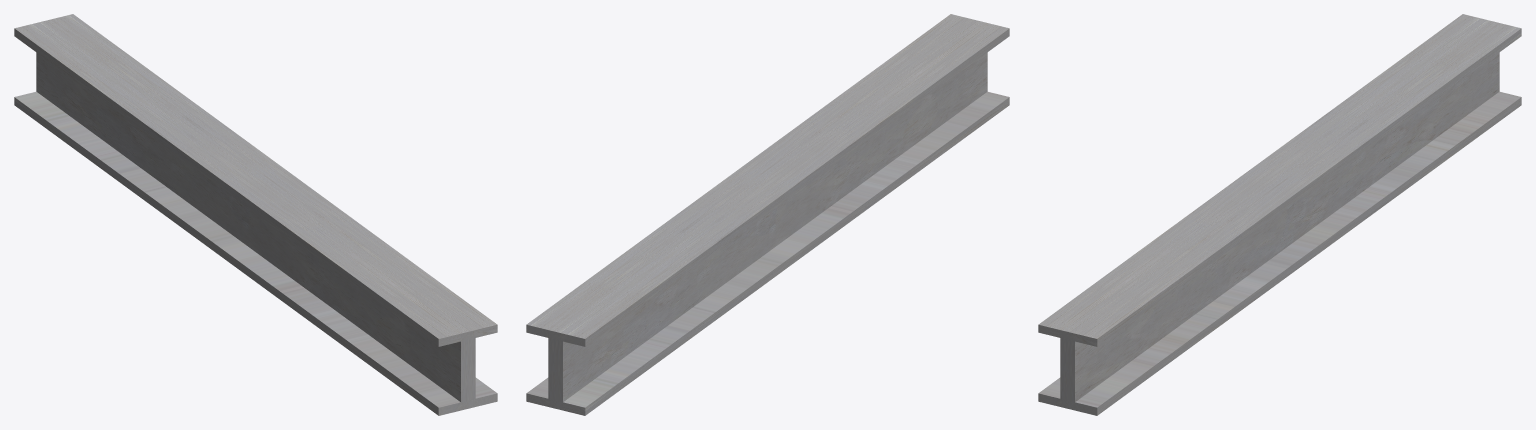
The model's file is IBeam2.FBX.
3 views of the same model, side by side, from view 1: azimuth 30°, elevation 25°; view 2: azimuth 150°, elevation 25°; view 3: azimuth 330°, elevation 25° (orthographic).
Visible parts, largest first — view 1: Box01; view 2: Box01; view 3: Box01.
Part boxes in pixels (bbox=[...]): Box01: bbox=[14, 14, 497, 415]; Box01: bbox=[526, 14, 1009, 415]; Box01: bbox=[1038, 14, 1521, 415].
Size of the model in its own units: 0.32 by 0.4 by 4.
Materials: 1 (1 with a texture image).
